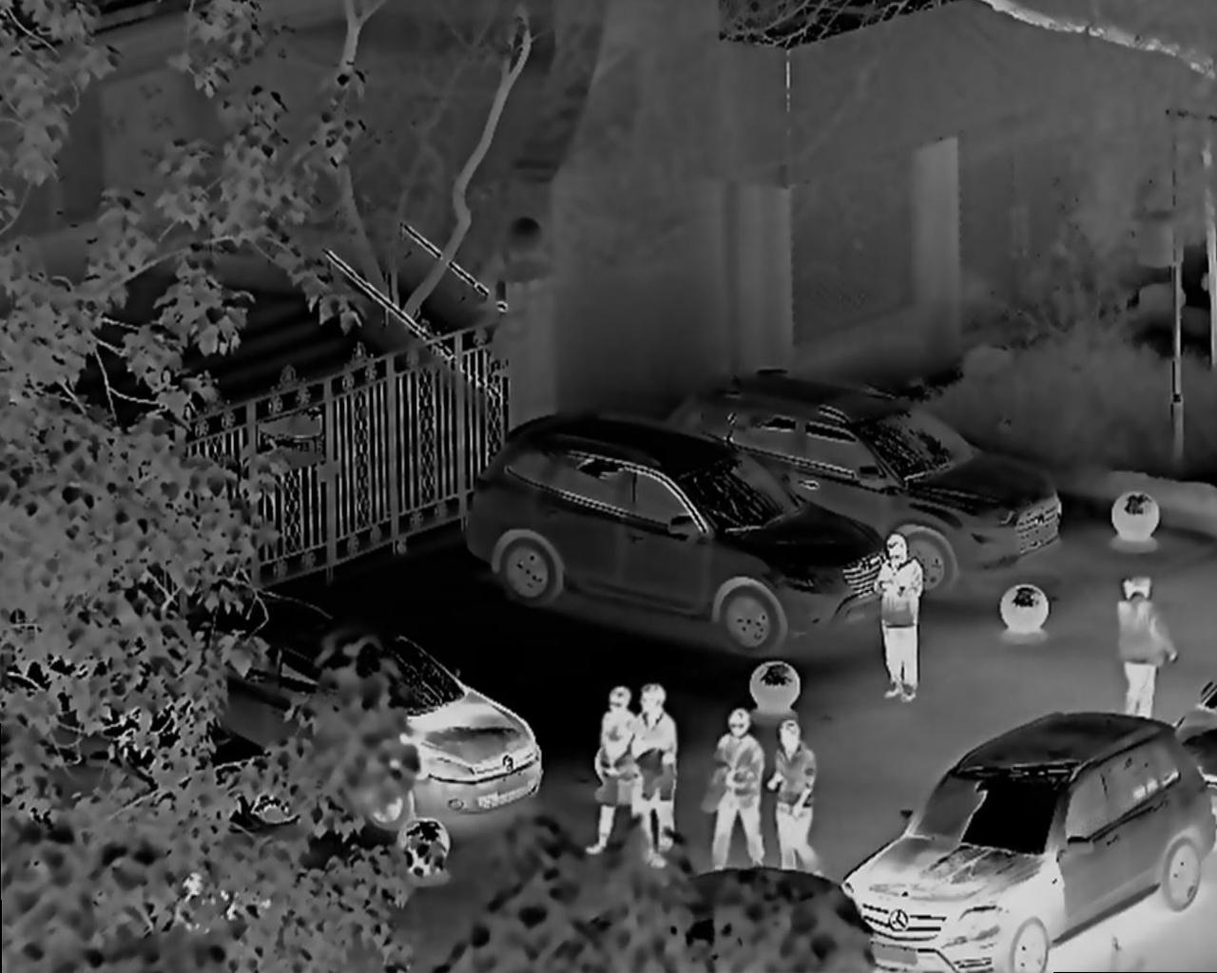person: (1109, 576, 1177, 721), (629, 682, 684, 858), (879, 528, 927, 702), (712, 697, 763, 856), (770, 715, 823, 866), (599, 671, 636, 867)
